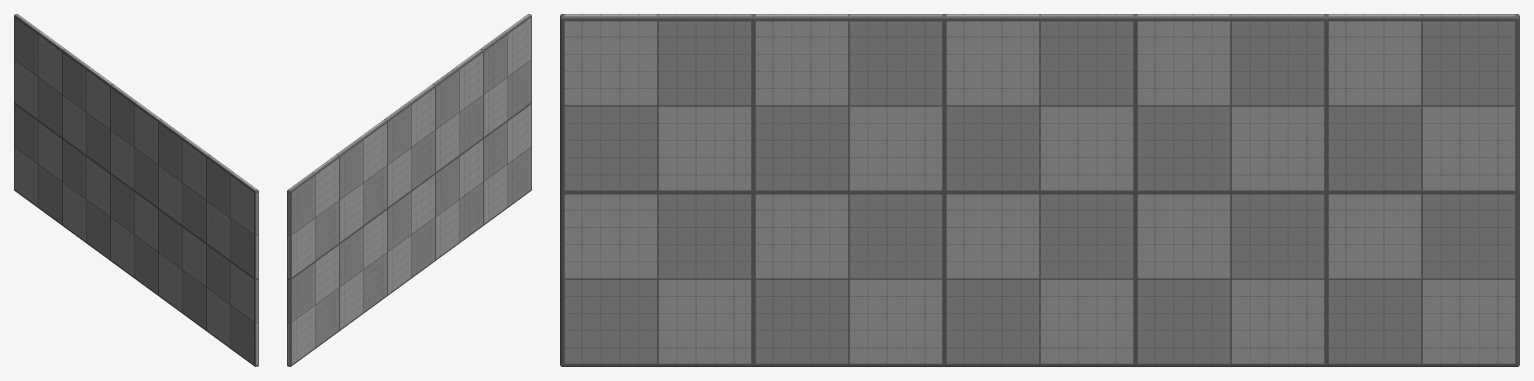
The model's file is Wall0x2x5.fbx.
3 renders of one model, left to right at view 1: azimuth 30°, elevation 25°; view 2: azimuth 150°, elevation 25°; view 3: azimuth 270°, elevation 25°, orthographic. The views are drawn at different scales.
Parts seen in each view (by area): view 1: Wall0x2x5; view 2: Wall0x2x5; view 3: Wall0x2x5.
Part boxes in pixels (x1=…): Wall0x2x5: x1=14, y1=14, x2=258, y2=366; Wall0x2x5: x1=287, y1=14, x2=531, y2=366; Wall0x2x5: x1=560, y1=14, x2=1519, y2=366.
Bounding box in the file's own units: 5 × 202 × 502.
